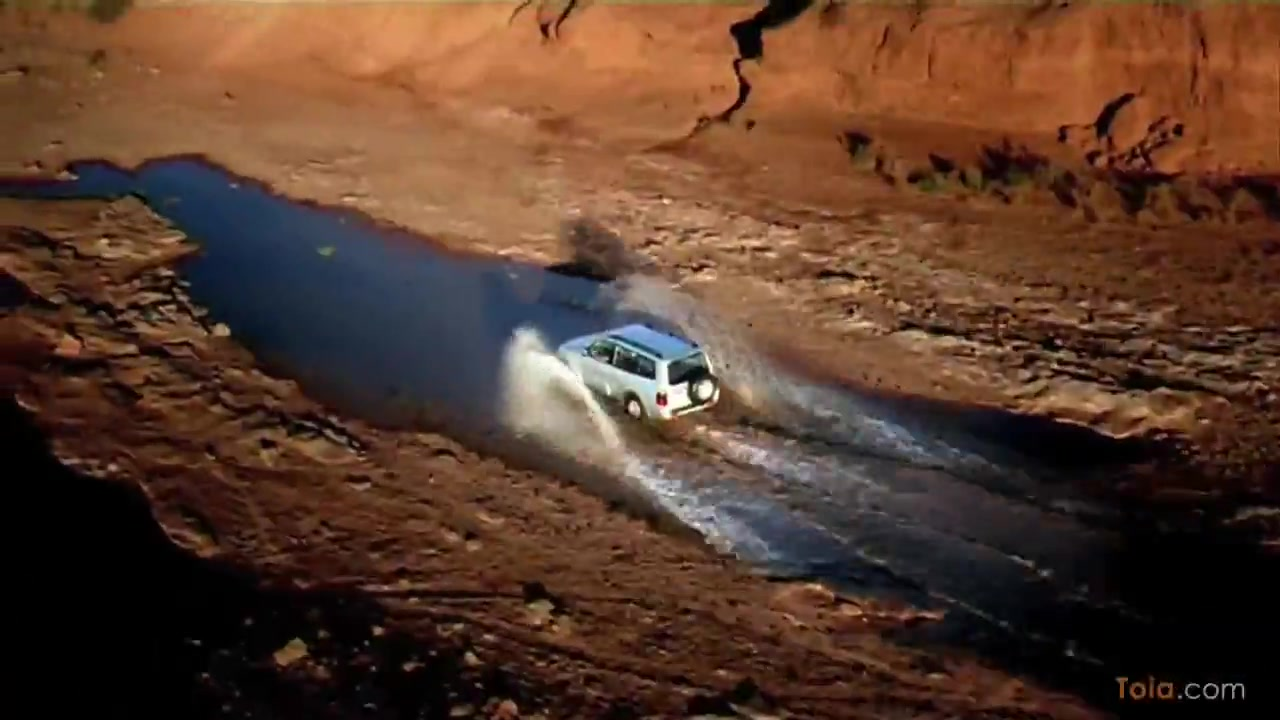car: (558, 322, 725, 432)
